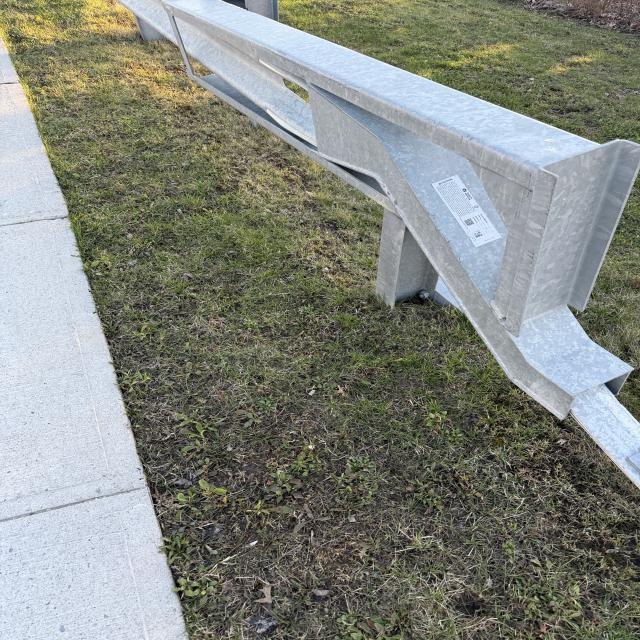Guard rail: (122, 4, 621, 303)
